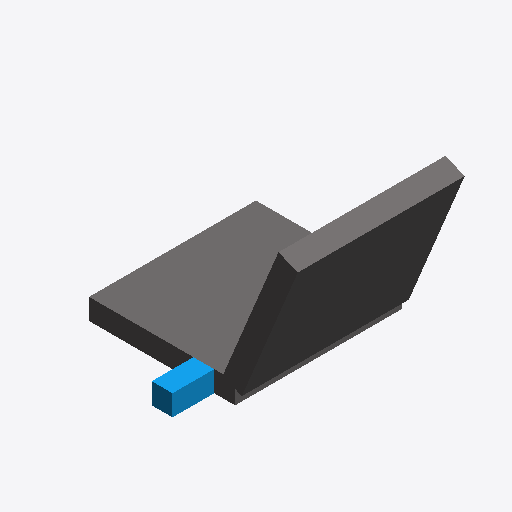
Isometric view (azimuth 45°, elevation 35.3°) of a Minecraft model made of 3 cuboids, textured from the same repository.
Parts seen in each view (by area): screen, keyboard, antenna.
Part boxes in pixels (left/top/right/bottom): screen: left=223, top=156, right=464, bottom=395; keyboard: left=89, top=201, right=401, bottom=404; antenna: left=152, top=357, right=213, bottom=416.
Bounding box in the file's own units: 10 × 7.39 × 10.